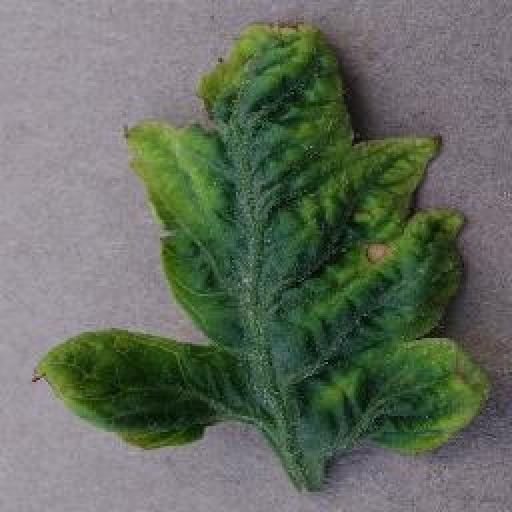Yellow Leaf Curl Virus: (34, 21, 489, 456)
